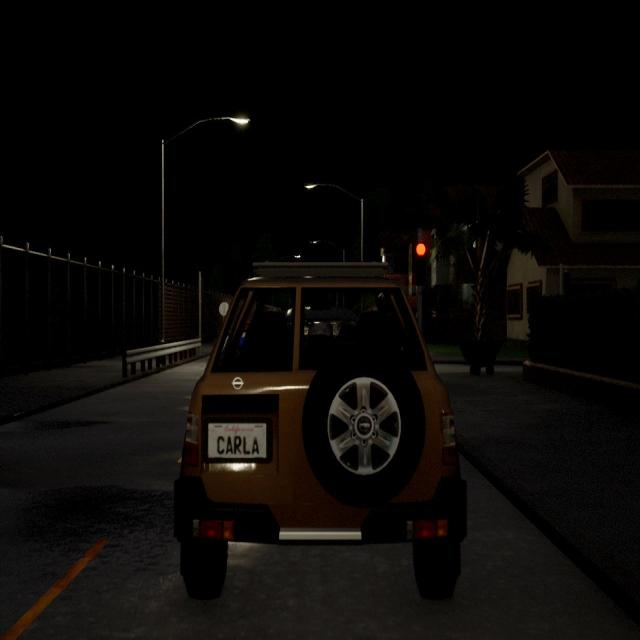Traffic_Signs: (218, 300, 232, 319)
Vehicle: (175, 262, 466, 599), (304, 320, 334, 337)
traffic_light: (414, 234, 428, 262)
